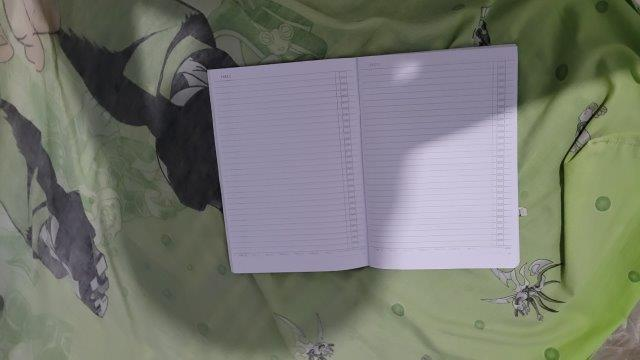kertas: (207, 45, 521, 269)
